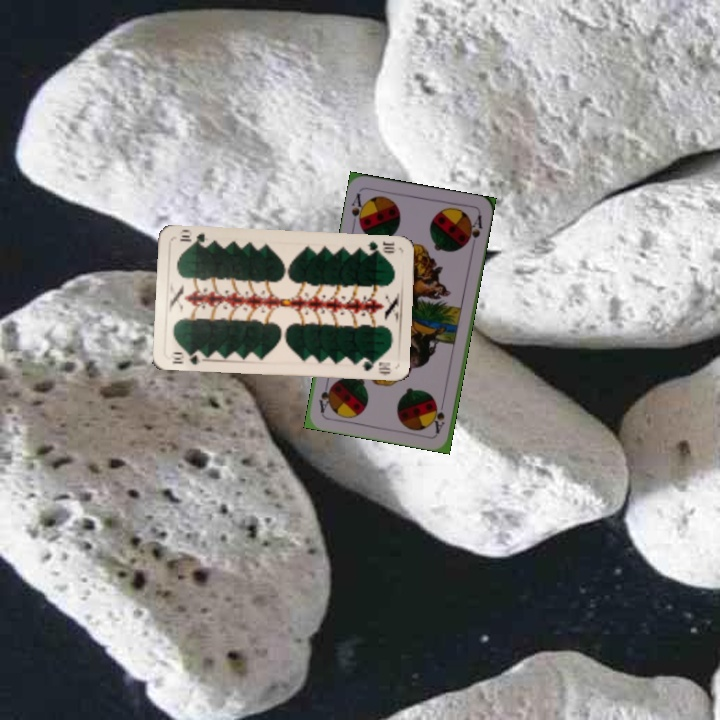G10: (166, 347, 206, 367), (360, 237, 398, 256)
SA: (347, 189, 368, 230), (430, 395, 447, 436)
